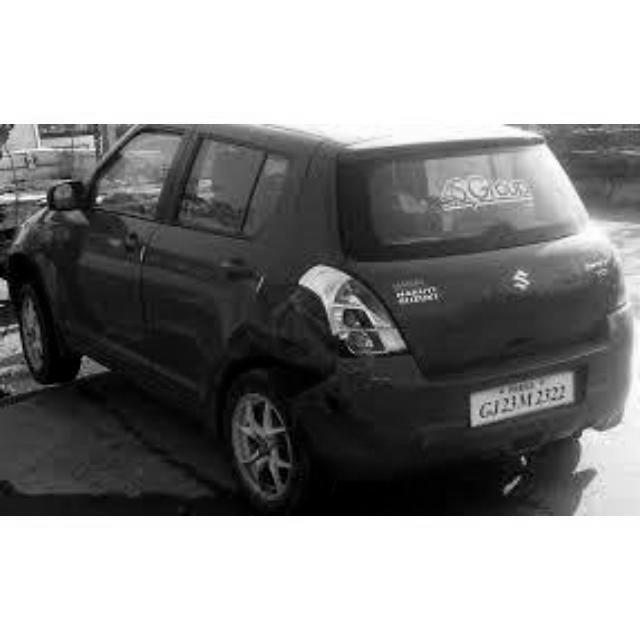quaterpanel-dent: (224, 281, 355, 412)
